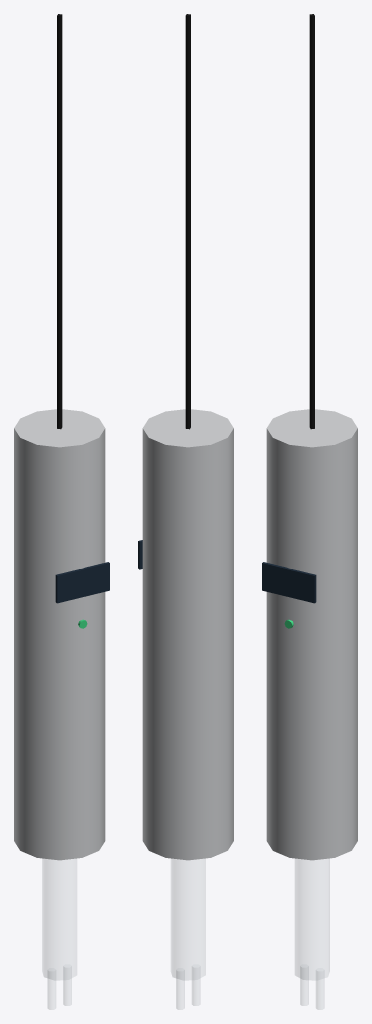
Rendered from probe-ph-ec-pen--ec.glb.
The picture shows the model from 3 angles, left to right: view 1: azimuth 30°, elevation 25°; view 2: azimuth 210°, elevation 25°; view 3: azimuth 330°, elevation 25°; orthographic projection.
Parts seen in each view (by area): view 1: pen_body, pen_tip, pen_cable, pen_display; view 2: pen_body, pen_tip, pen_cable; view 3: pen_body, pen_tip, pen_cable, pen_display.
Part boxes in pixels (x1,y1,x2,y2): pen_body: (14,409,105,860); pen_tip: (42,859,76,1009); pen_cable: (57,14,62,429); pen_display: (55,562,109,603); pen_body: (142,409,233,860); pen_tip: (171,859,205,1009); pen_cable: (185,14,190,429); pen_body: (266,409,357,860); pen_tip: (295,859,329,1009); pen_cable: (309,14,314,429); pen_display: (262,562,316,603).
Bounding box in the file's own units: 0.03 × 0.36 × 0.0307.
